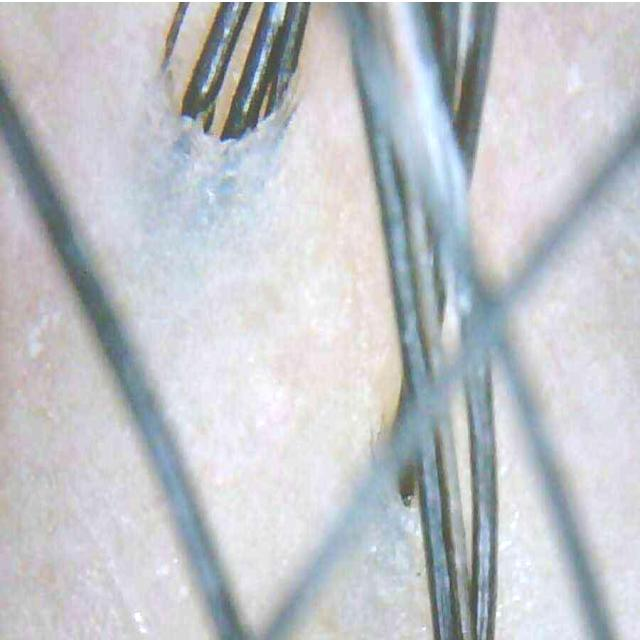d: (22, 302, 61, 361)
ds: (336, 499, 425, 629)
o: (498, 513, 530, 618), (120, 599, 161, 638)
